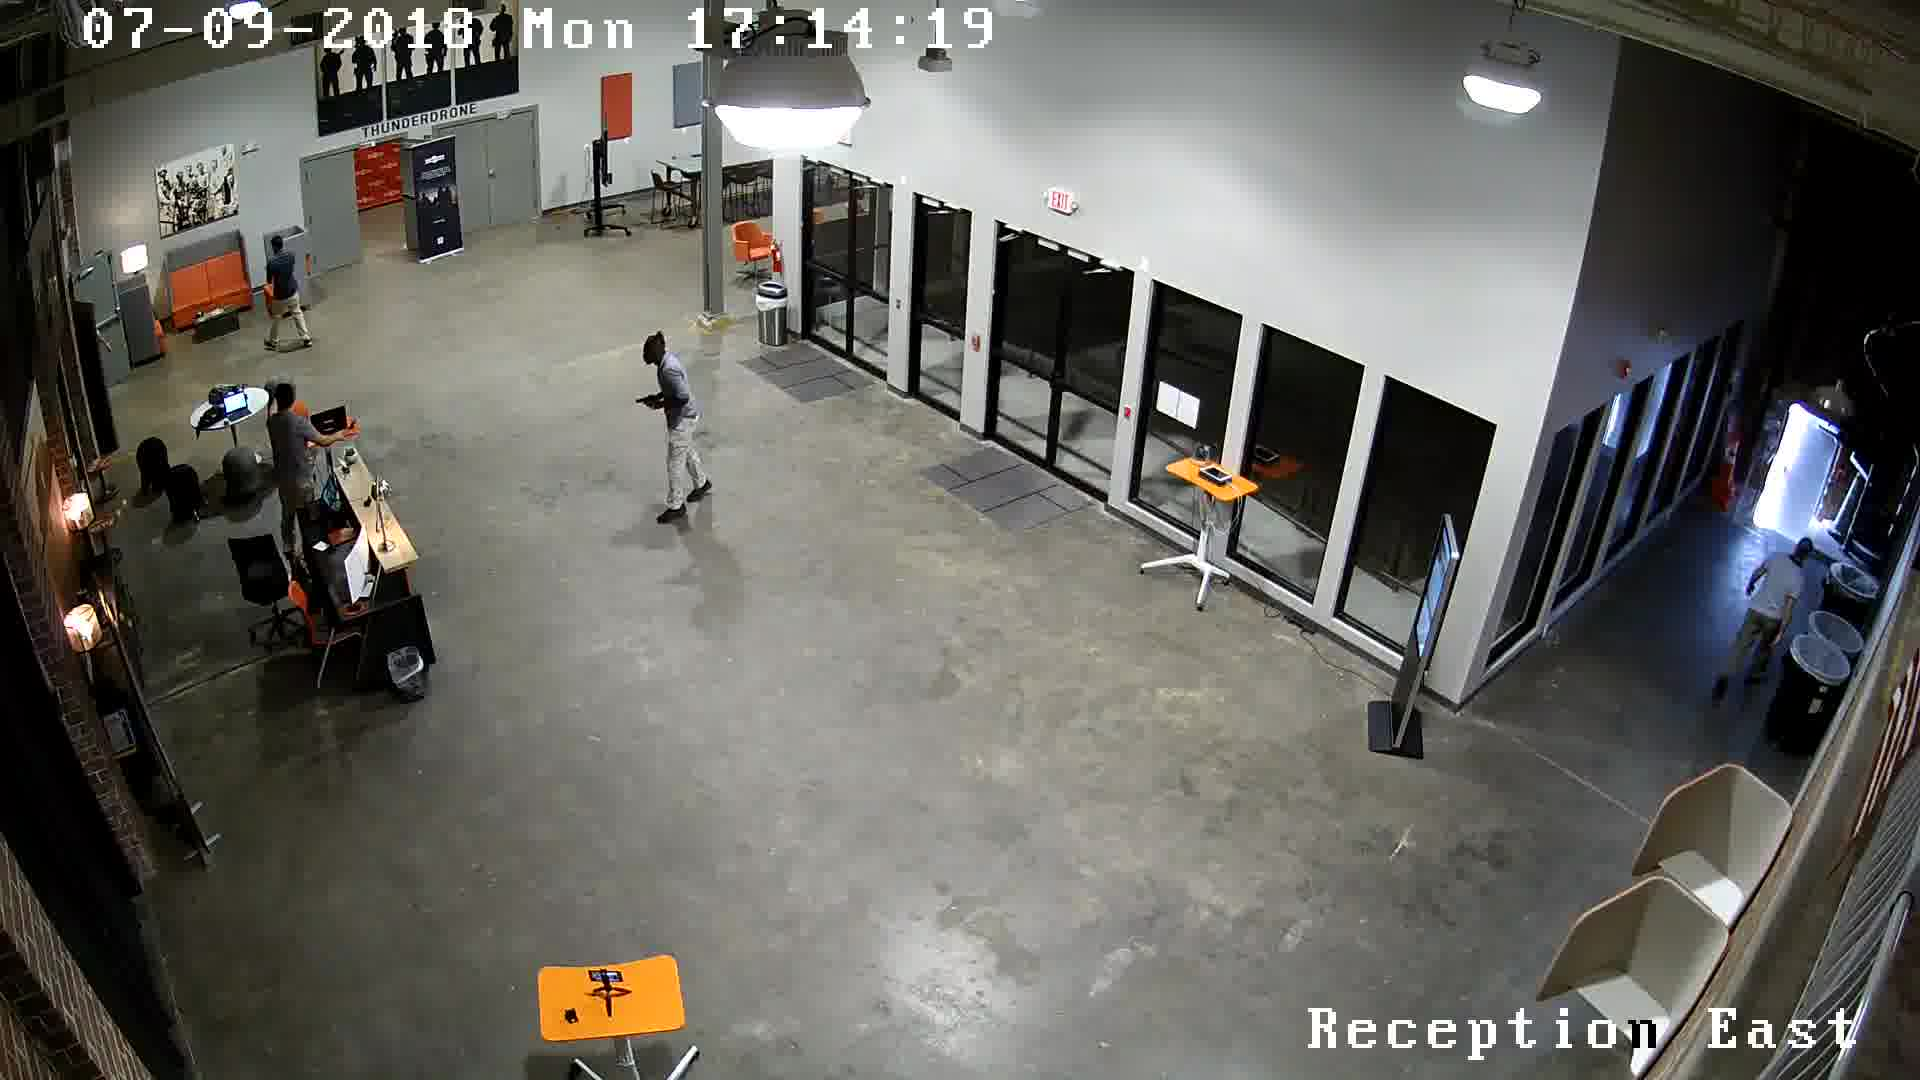pistol: (624, 392, 666, 417)
